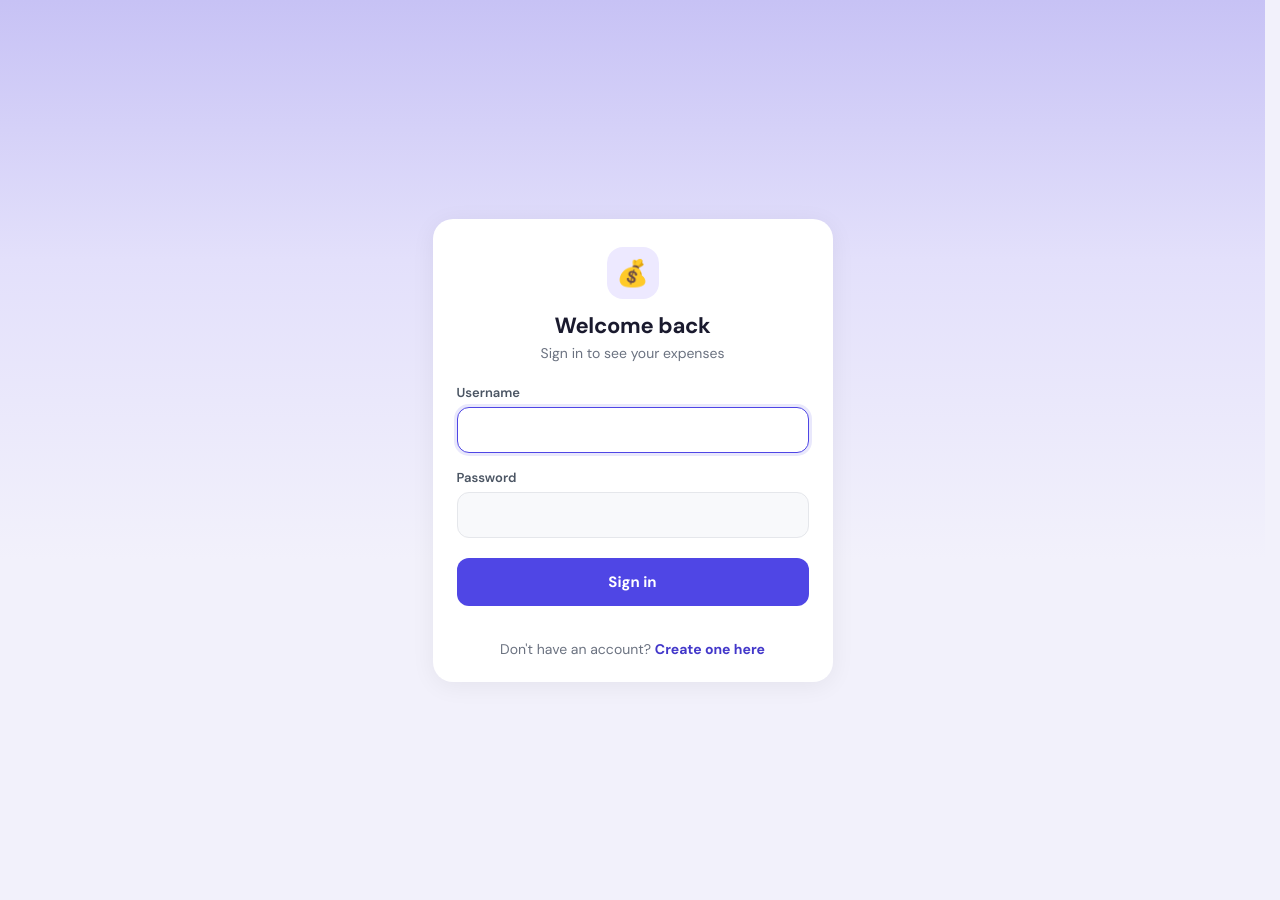
Test: the login screen links to register and back
Click the link "Create one here": (710, 648) x1=655 y1=640 x2=765 y2=658
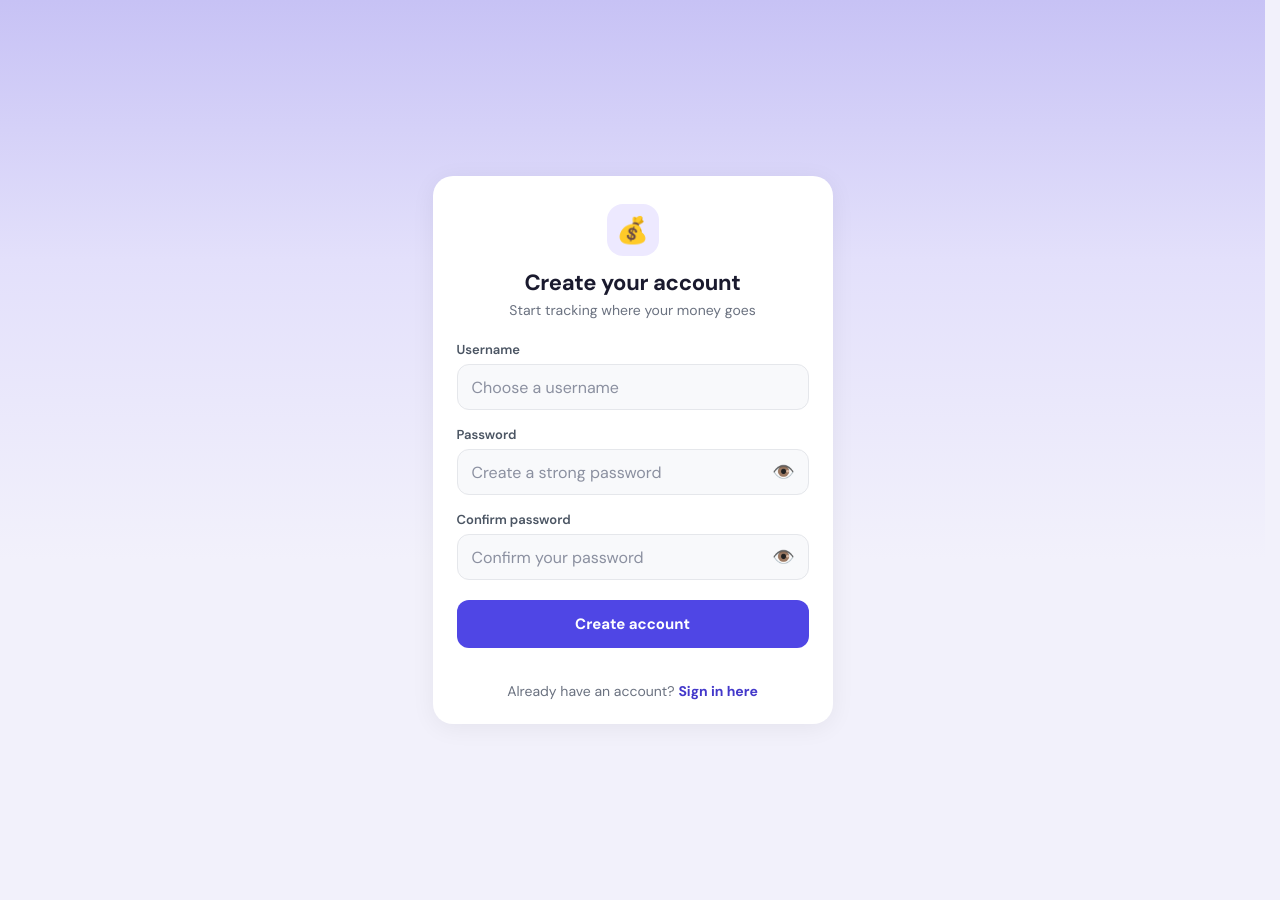
Check: the button "Create account" is shown, box x1=456 y1=600 x2=808 y2=648
Click the link "Sign in here": (718, 691) x1=678 y1=682 x2=758 y2=700
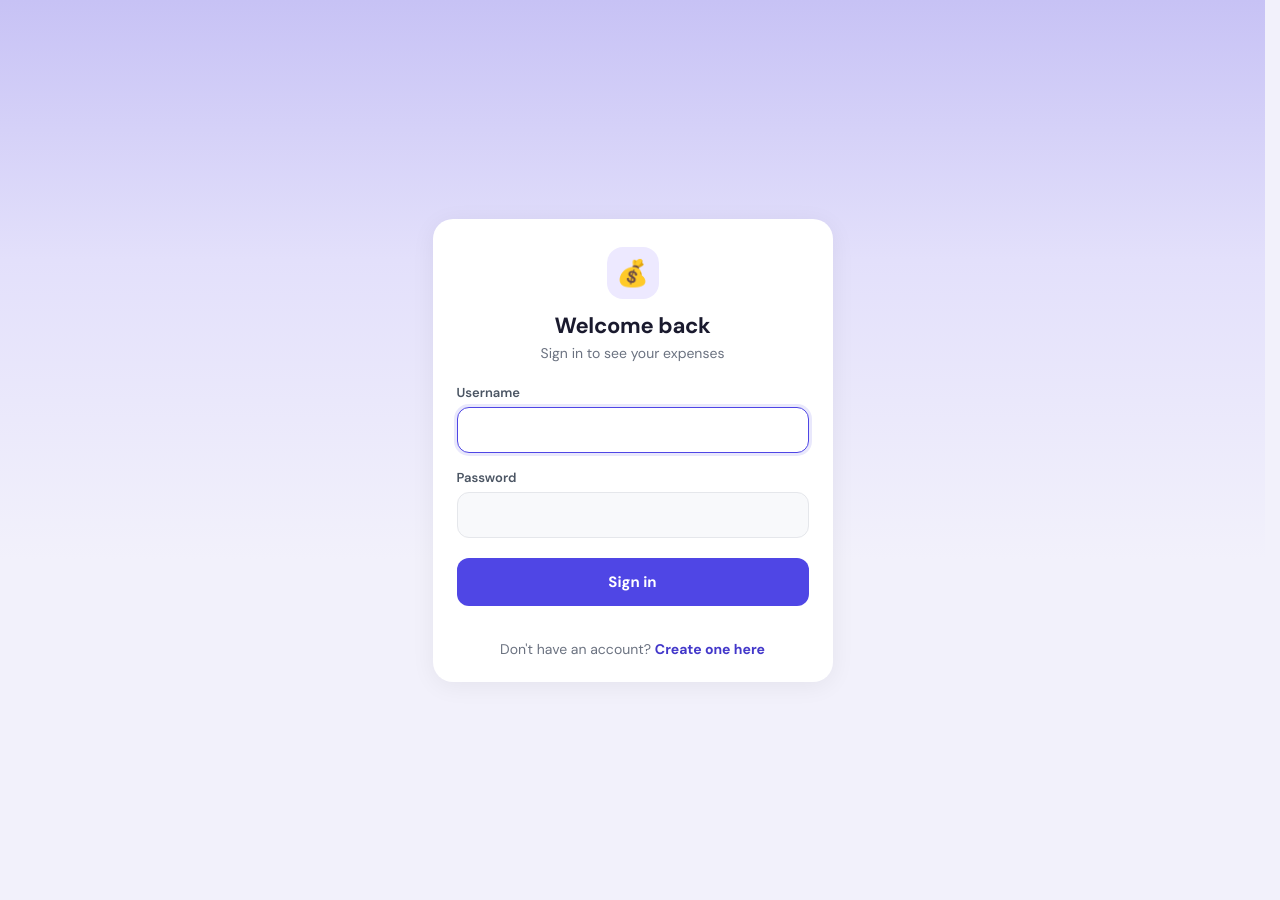
Check: the button "Sign in" is shown, box x1=456 y1=558 x2=808 y2=606
